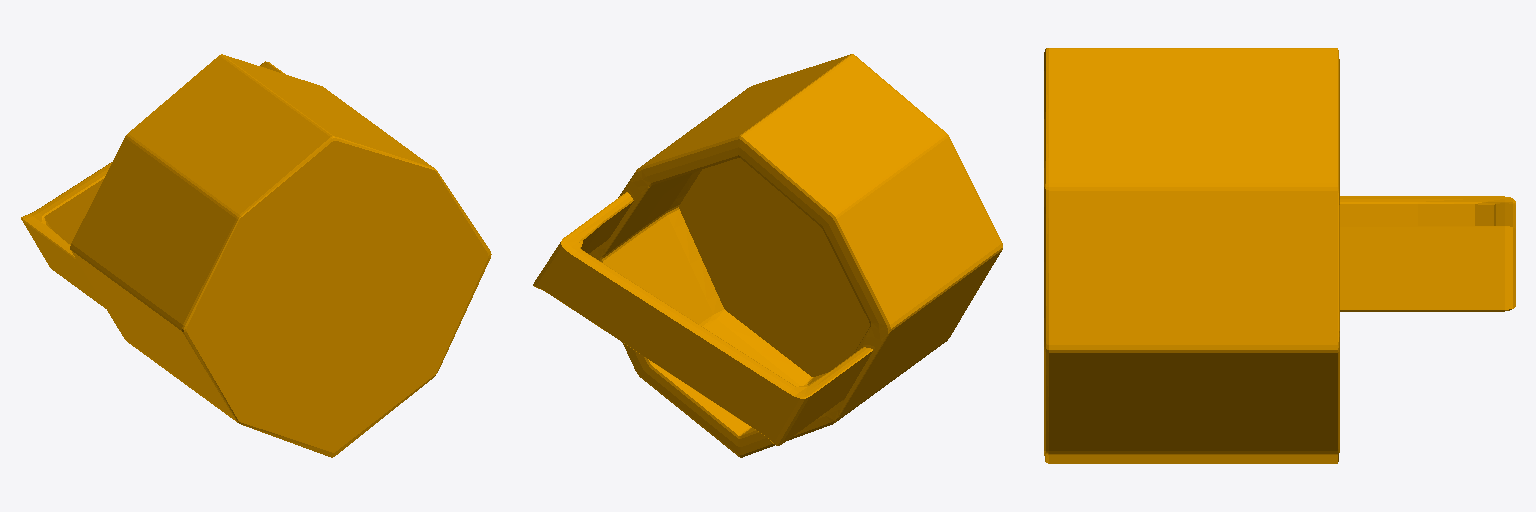
robot.urdf — 140:
<?xml version="1.0" ?>
<robot name="140">
  <link name="body">
    <visual>
      <geometry>
        <mesh filename="../shapes/140.obj"/>
      </geometry>
    </visual>
    <collision>
      <geometry>
        <mesh filename="../shapes/140.obj"/>
      </geometry>
    </collision>
  </link>
</robot>

--- Facts derived from the render (not from the file) ---
Views: 3 orthographic renders of the robot side by side, from view 1: azimuth 30°, elevation 25°; view 2: azimuth 150°, elevation 25°; view 3: azimuth 270°, elevation 25°.
Model 140 with 1 links and 0 joints (none), rooted at body, posed every joint at zero.
Visible links, largest first — view 1: body; view 2: body; view 3: body.
Boxes of the visible links, left/top/right/bottom form: body: left=21, top=54, right=491, bottom=457; body: left=533, top=54, right=1002, bottom=457; body: left=1044, top=48, right=1515, bottom=463.
Bounding box of the posed robot: 3.09 × 3.15 × 3.07 m (x, y, z).
1 mesh visuals loaded from 1 distinct referenced files (1 OBJ).